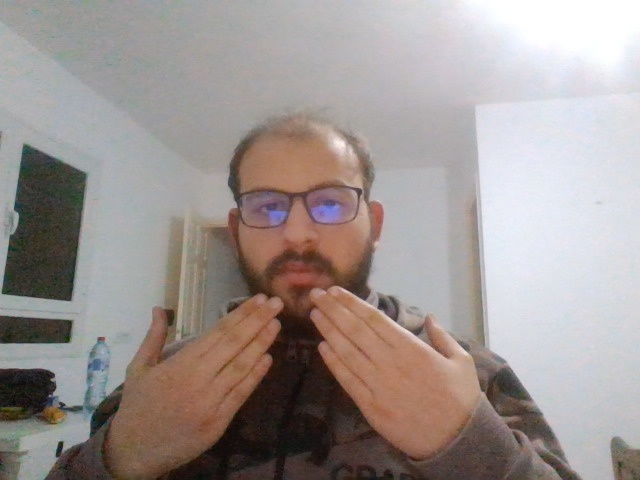Thank You: (127, 292, 474, 455)
